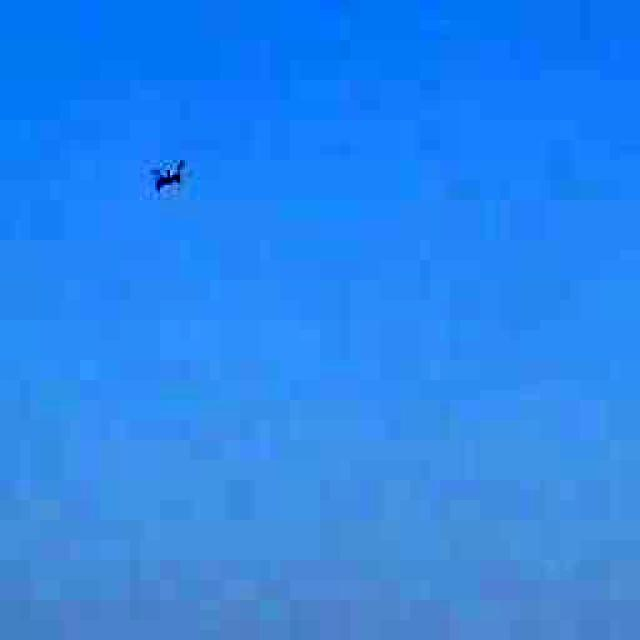bird: (115, 122, 225, 232)
